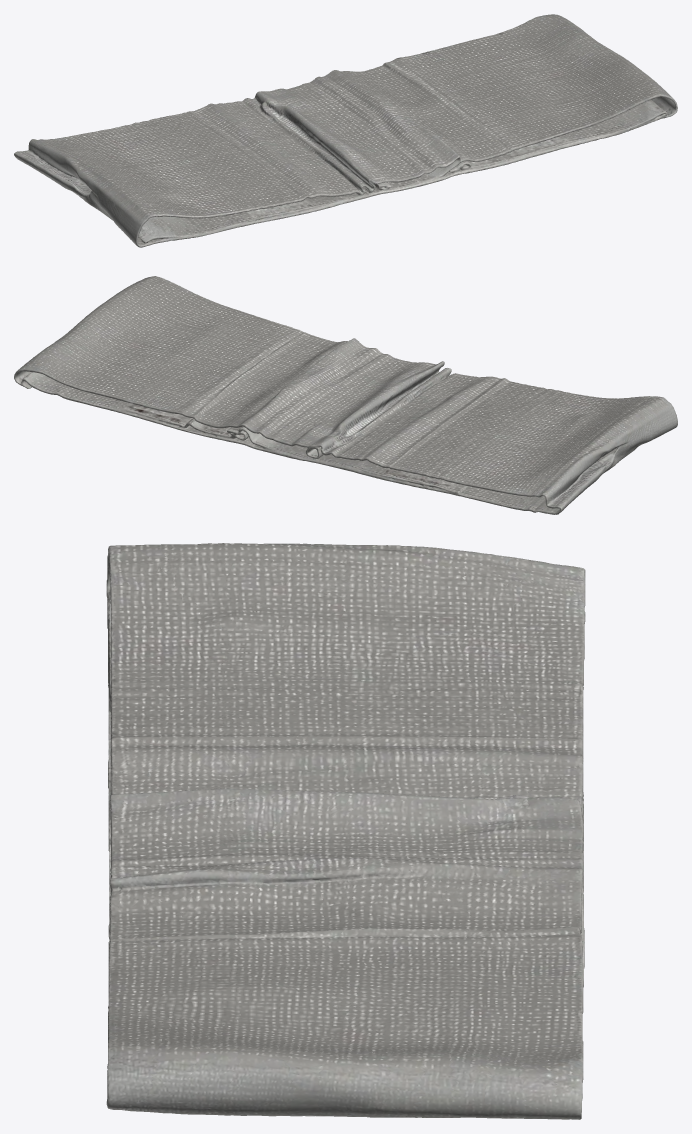
Rendered from duct_tape.glb.
3 renders of one model, top to bottom at view 1: azimuth 30°, elevation 25°; view 2: azimuth 150°, elevation 25°; view 3: azimuth 270°, elevation 25°, orthographic. The views are drawn at different scales.
Size of the model in its own units: 1.9 by 0.1316 by 0.7169.
Materials: 1 (1 with a texture image).
